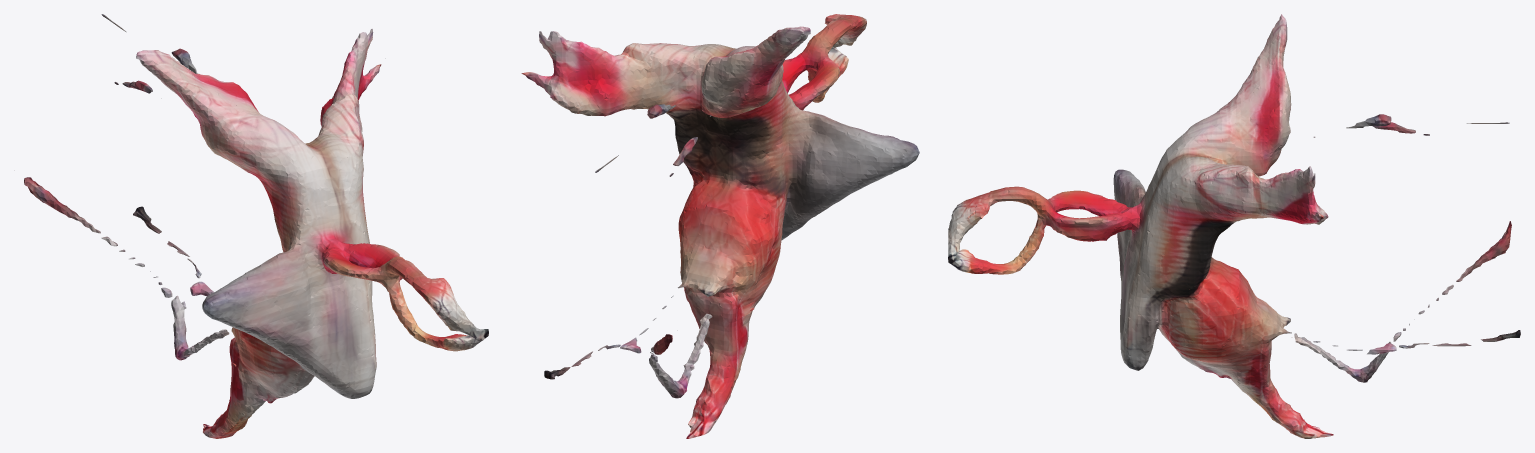
File: flamingo.obj
3 views of the same model, side by side, from view 1: azimuth 30°, elevation 25°; view 2: azimuth 150°, elevation 25°; view 3: azimuth 270°, elevation 25° (orthographic). The views are drawn at different scales.
Size of the model in its own units: 1.07 by 1.45 by 1.98.
Materials: 1 (1 with a texture image).
